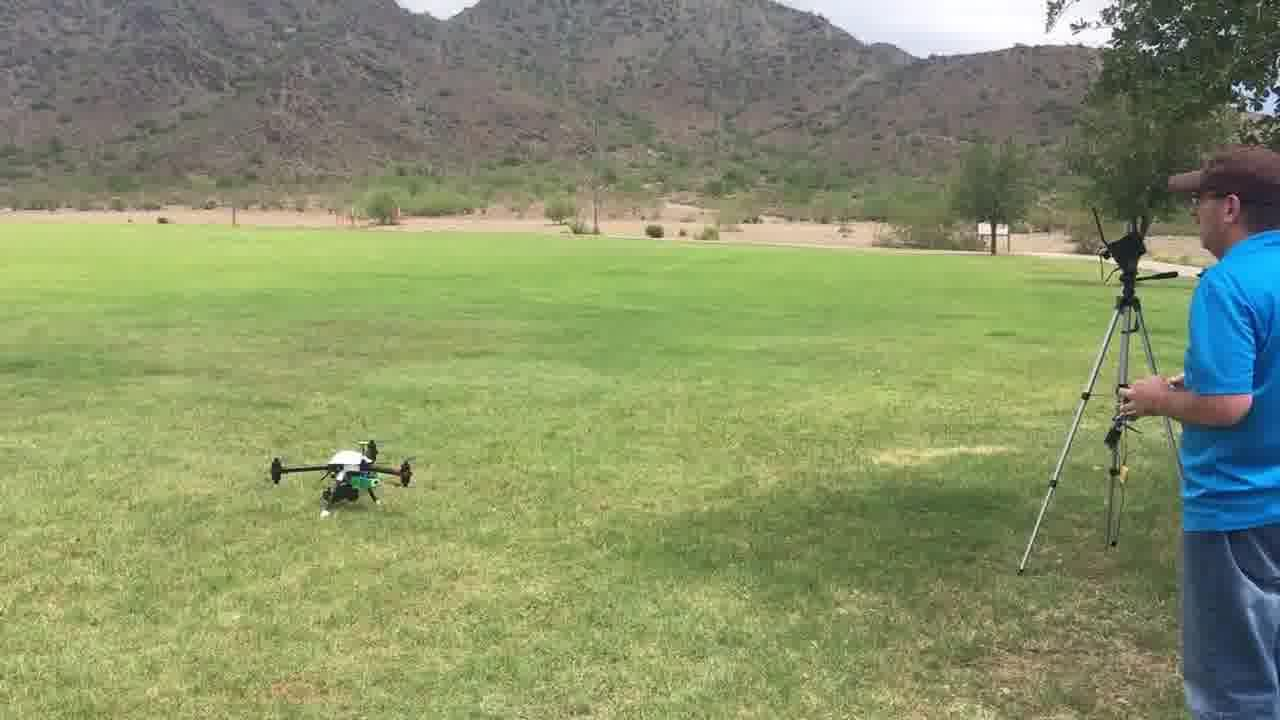drone: (263, 427, 420, 515)
